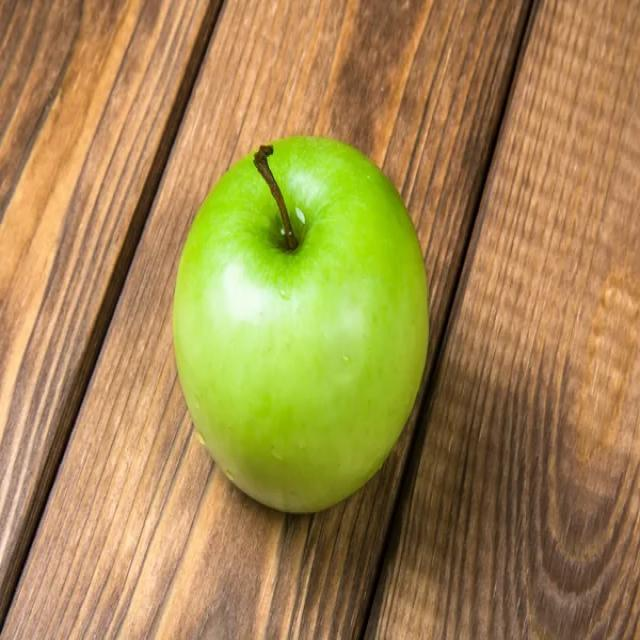Fresh Apple: (163, 135, 435, 522)
